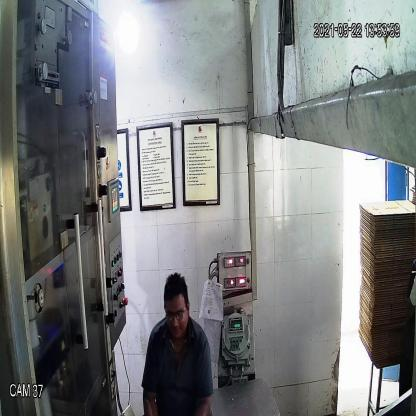goggles: (160, 298, 194, 325)
